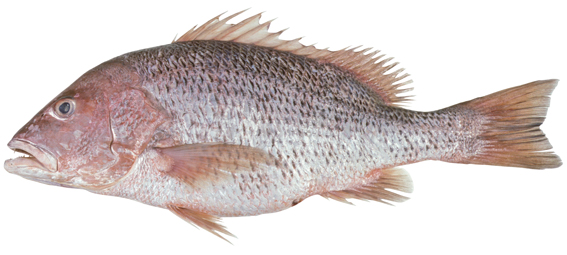fish: (3, 7, 564, 246)
